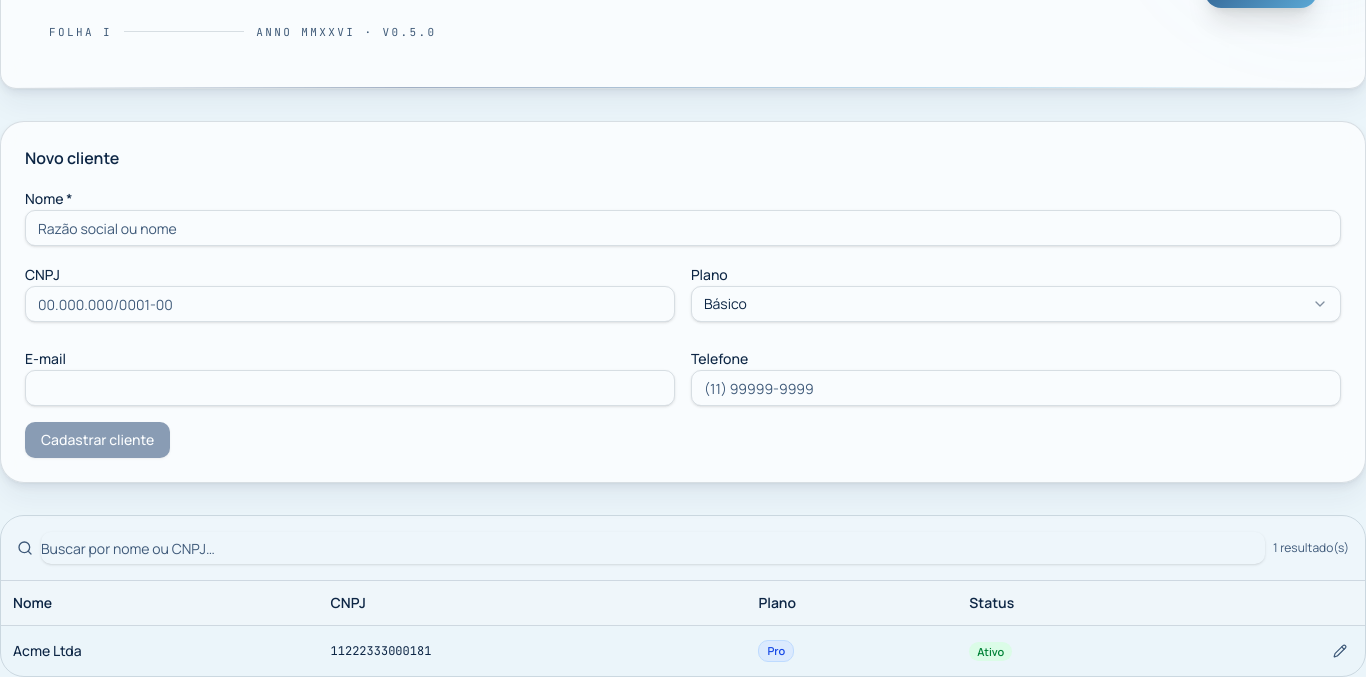
Scenario: ClientesPage › abre o dialog de edicao pre-preenchido ao clicar no lapis
(page scrolled)
Check: the text "Acme Ltda" is shown, box top-left (1, 626), bottom-right (319, 676)
Click the button titled "Editar cliente": click(1340, 651) top-left (1327, 638), bottom-right (1353, 664)
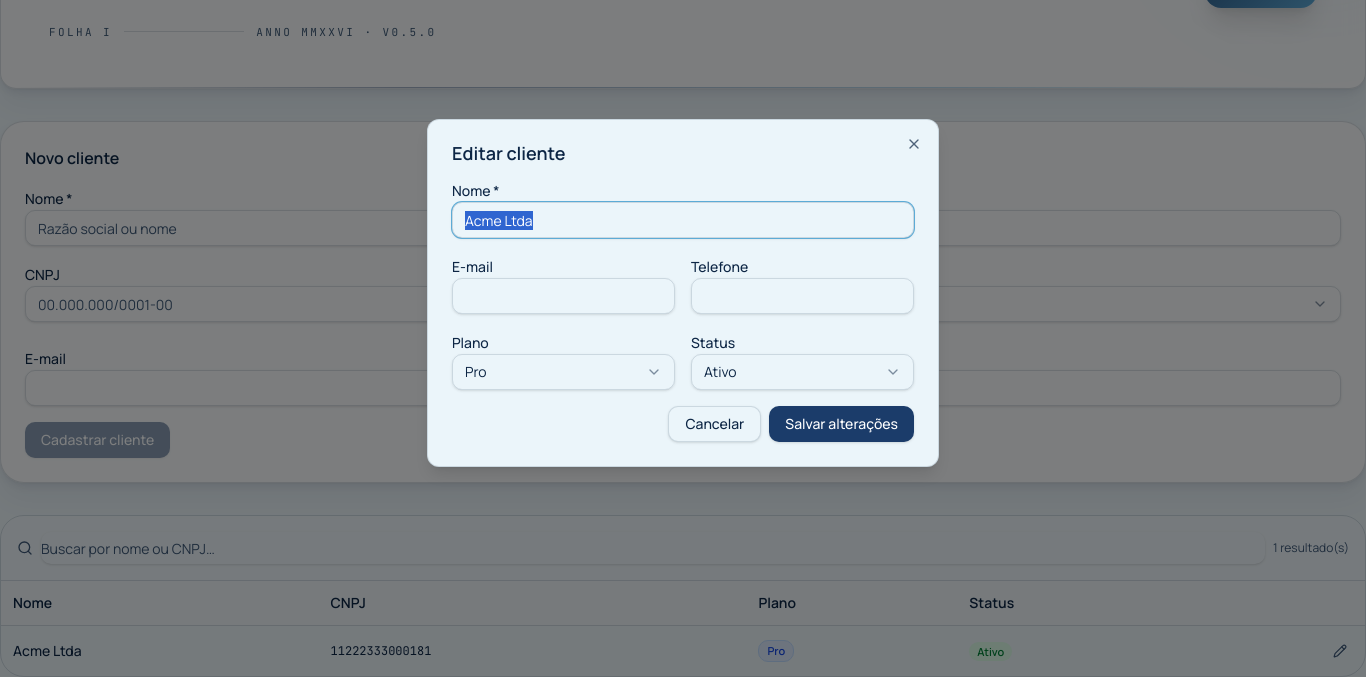
Check: the heading "Editar cliente" is shown, box top-left (452, 141), bottom-right (566, 165)
Check: the 1st field showing "Acme Ltda" is shown, box top-left (452, 202), bottom-right (914, 238)
